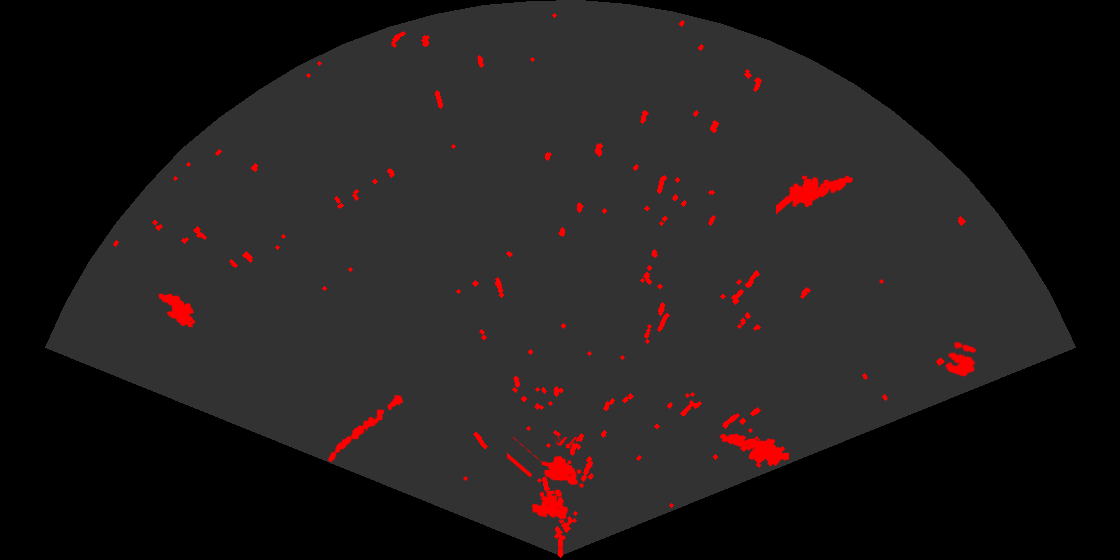AUV: (157, 292, 197, 329)
ball: (943, 340, 978, 378)
cage: (507, 437, 585, 521)
chain: (327, 393, 405, 463)
frogman: (776, 174, 855, 216), (718, 432, 789, 469)
